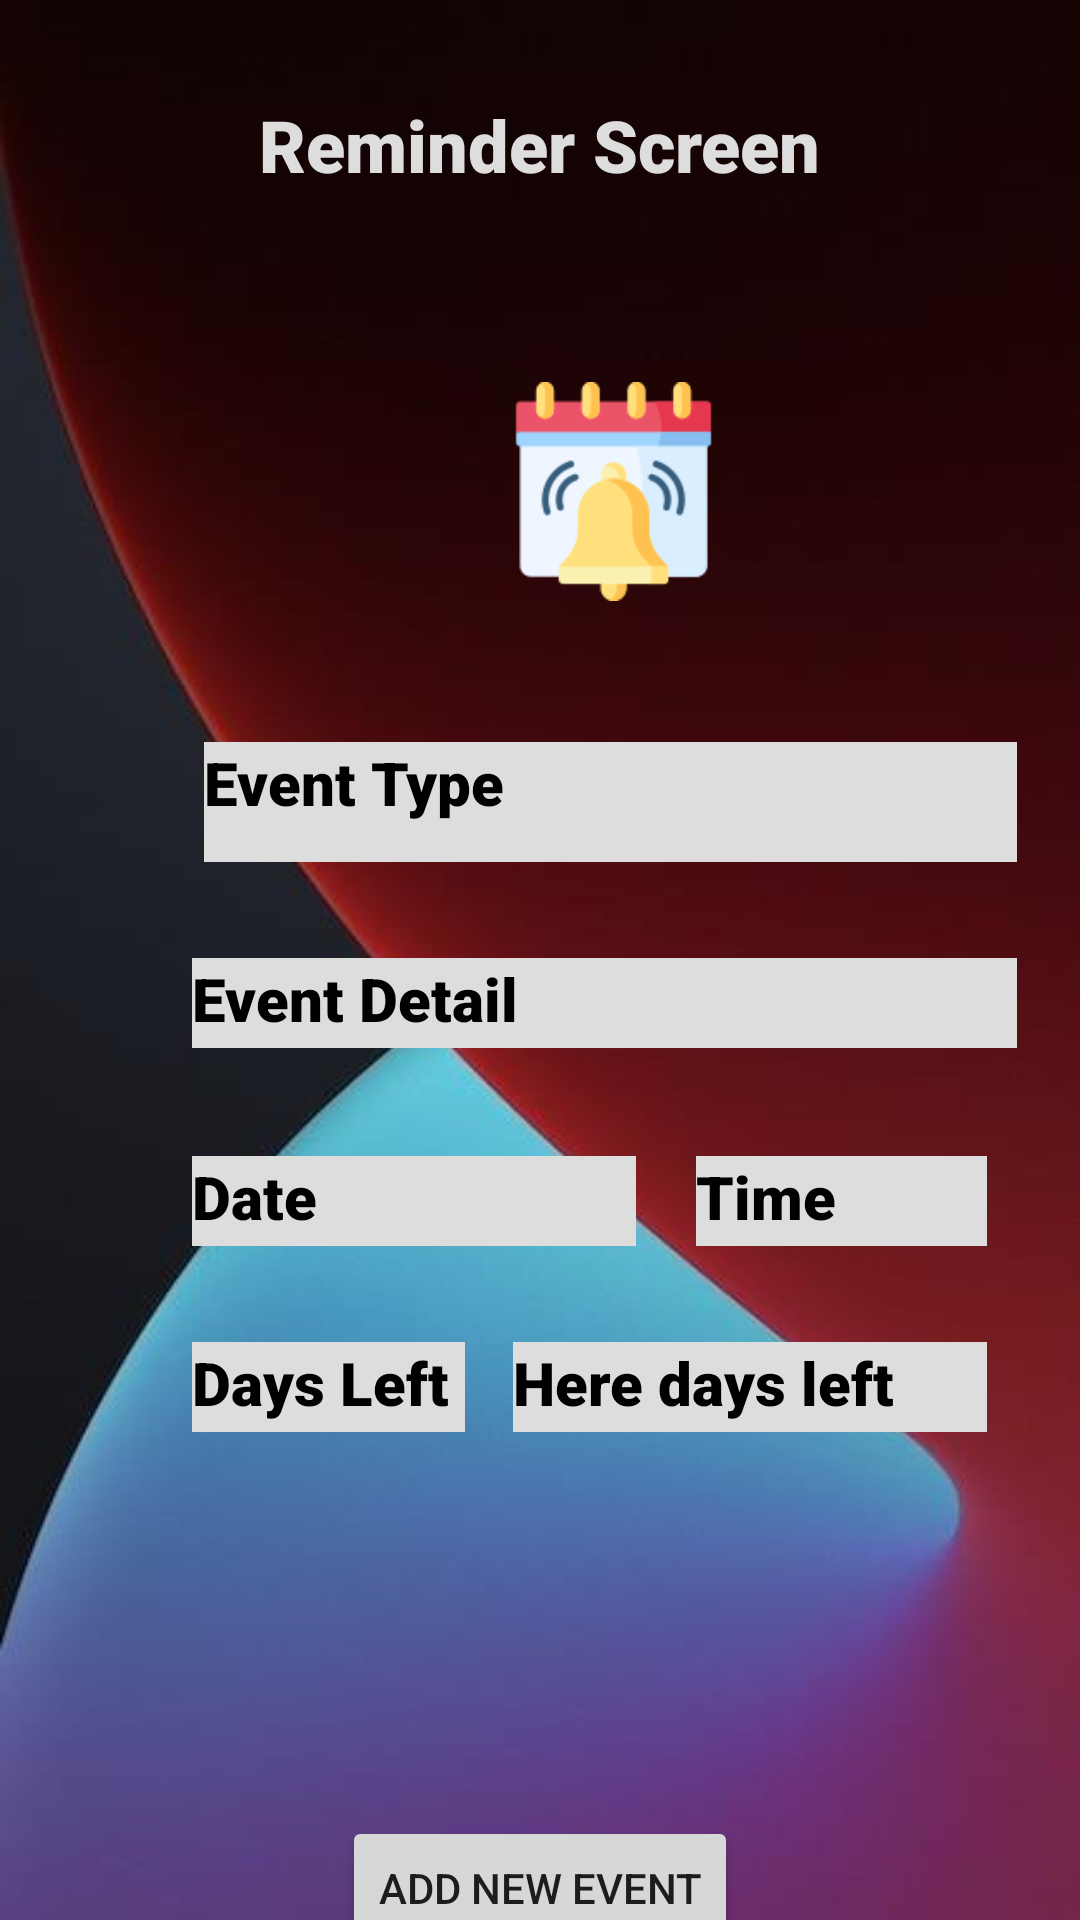

Screen size 1080 × 1920. Icon name, then its box in pixels as (x1, y1, x2, y2):
reminder: (515, 382, 712, 601)
